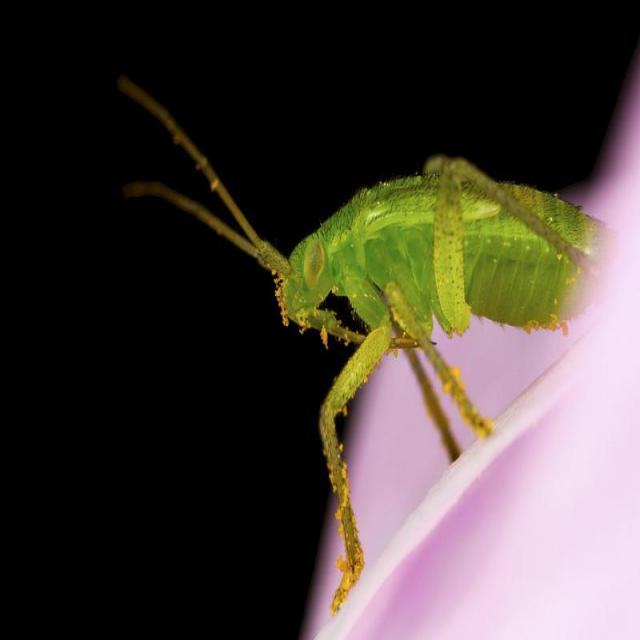Aphids: (89, 79, 627, 553)
